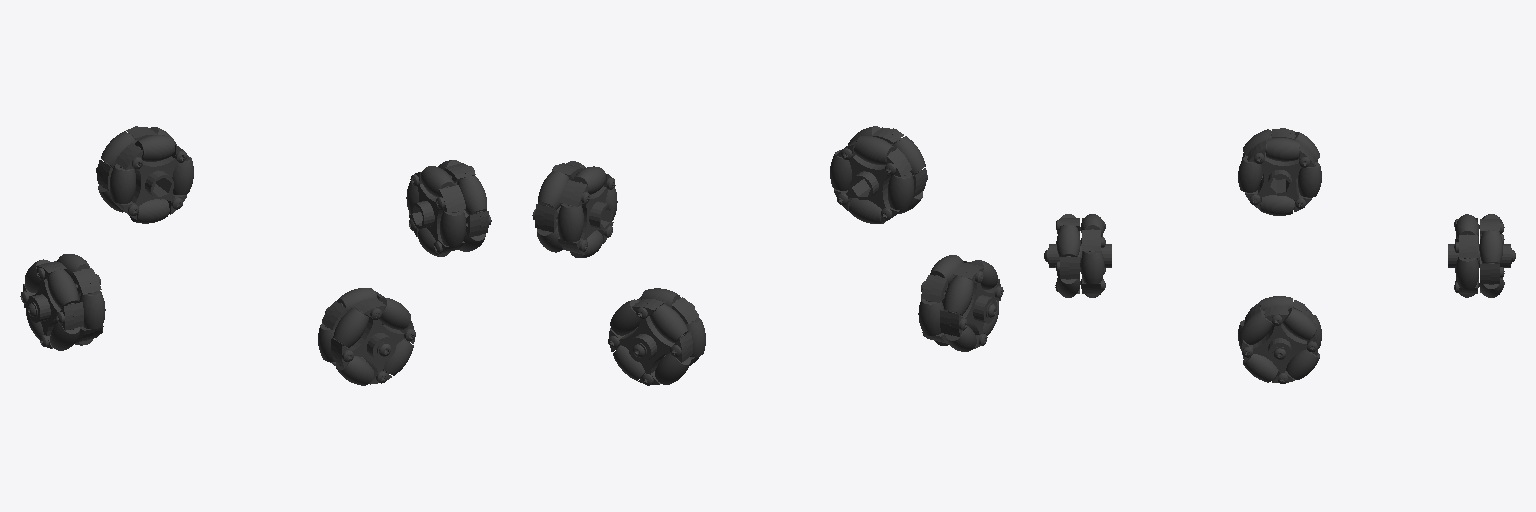
robot.urdf — omwr:
<?xml version="1.0" encoding="utf-8"?>
<!-- This URDF was automatically created by SolidWorks to URDF Exporter! Originally created by Stephen Brawner (brawner@gmail.com) 
     Commit Version: 1.6.0-1-g15f4949  Build Version: 1.6.7594.29634
     For more information, please see http://wiki.ros.org/sw_urdf_exporter -->
<robot
  name="omwr">
  <link
    name="base_link">
    <inertial>
      <origin
        xyz="-0.000455646246067566 0.000811694117781514 0.020119977038071"
        rpy="0 0 0" />
      <mass
        value="1.89769515400292" />
      <inertia
        ixx="0.00203870421675236"
        ixy="-3.27327410701632E-06"
        ixz="5.39454756330921E-08"
        iyy="0.00192797712175279"
        iyz="-9.91897216552498E-08"
        izz="0.00385166203404091" />
    </inertial>
    <visual>
      <origin
        xyz="0 0 0"
        rpy="0 0 0" />
      <geometry>
        <mesh
          filename="package://omwr/meshes/base_link.STL" />
      </geometry>
      <material
        name="">
        <color
          rgba="1 0 0 1" />
      </material>
    </visual>
    <collision>
      <origin
        xyz="0 0 0"
        rpy="0 0 0" />
      <geometry>
        <mesh
          filename="package://omwr/meshes/base_link.STL" />
      </geometry>
    </collision>
  </link>
  <link
    name="wheel_link_1">
    <inertial>
      <origin
        xyz="-3.86434327037666E-08 -6.47441782009733E-08 0.000278578805558621"
        rpy="0 0 0" />
      <mass
        value="0.0219332134678674" />
      <inertia
        ixx="7.81868143177715E-07"
        ixy="4.37364991111912E-13"
        ixz="1.09395269168608E-11"
        iyy="7.81863503239375E-07"
        iyz="9.76071457932988E-12"
        izz="1.25414249321258E-06" />
    </inertial>
    <visual>
      <origin
        xyz="0 0 0"
        rpy="0 0 0" />
      <geometry>
        <mesh
          filename="package://omwr/meshes/wheel_link_1.STL" />
      </geometry>
      <material
        name="">
        <color
          rgba="0.298039215686275 0.298039215686275 0.298039215686275 1" />
      </material>
    </visual>
    <collision>
      <origin
        xyz="0 0 0"
        rpy="0 0 0" />
      <geometry>
        <mesh
          filename="package://omwr/meshes/wheel_link_1.STL" />
      </geometry>
    </collision>
  </link>
  <joint
    name="wheel_joint_1"
    type="continuous">
    <origin
      xyz="0.0915670497449635 0 -0.0166999999999997"
      rpy="0 1.5707963267949 0" />
    <parent
      link="base_link" />
    <child
      link="wheel_link_1" />
    <axis
      xyz="0 0 1" />
  </joint>
  <link
    name="wheel_link_2">
    <inertial>
      <origin
        xyz="6.47438472764494E-08 -3.86432083832045E-08 0.000278578805204113"
        rpy="0 0 0" />
      <mass
        value="0.0219332134667945" />
      <inertia
        ixx="7.81863503201909E-07"
        ixy="-4.37399074667269E-13"
        ixz="-9.76073274427034E-12"
        iyy="7.81868143163356E-07"
        iyz="1.09395132123487E-11"
        izz="1.254142493171E-06" />
    </inertial>
    <visual>
      <origin
        xyz="0 0 0"
        rpy="0 0 0" />
      <geometry>
        <mesh
          filename="package://omwr/meshes/wheel_link_2.STL" />
      </geometry>
      <material
        name="">
        <color
          rgba="0.298039215686275 0.298039215686275 0.298039215686275 1" />
      </material>
    </visual>
    <collision>
      <origin
        xyz="0 0 0"
        rpy="0 0 0" />
      <geometry>
        <mesh
          filename="package://omwr/meshes/wheel_link_2.STL" />
      </geometry>
    </collision>
  </link>
  <joint
    name="wheel_joint_2"
    type="continuous">
    <origin
      xyz="0 0.0915670497449634 -0.0166999999999998"
      rpy="-1.57079632679489 0 0" />
    <parent
      link="base_link" />
    <child
      link="wheel_link_2" />
    <axis
      xyz="0 0 1" />
  </joint>
  <link
    name="wheel_link_3">
    <inertial>
      <origin
        xyz="-3.86433878507564E-08 -6.47442539511434E-08 0.000278578805495755"
        rpy="0 0 0" />
      <mass
        value="0.0219332134667944" />
      <inertia
        ixx="7.8186814315554E-07"
        ixy="4.37380720581609E-13"
        ixz="1.09395370824763E-11"
        iyy="7.81863503212026E-07"
        iyz="9.7607265595441E-12"
        izz="1.2541424931687E-06" />
    </inertial>
    <visual>
      <origin
        xyz="0 0 0"
        rpy="0 0 0" />
      <geometry>
        <mesh
          filename="package://omwr/meshes/wheel_link_3.STL" />
      </geometry>
      <material
        name="">
        <color
          rgba="0.298039215686275 0.298039215686275 0.298039215686275 1" />
      </material>
    </visual>
    <collision>
      <origin
        xyz="0 0 0"
        rpy="0 0 0" />
      <geometry>
        <mesh
          filename="package://omwr/meshes/wheel_link_3.STL" />
      </geometry>
    </collision>
  </link>
  <joint
    name="wheel_joint_3"
    type="continuous">
    <origin
      xyz="-0.0915670497449634 0 -0.0166999999999998"
      rpy="3.14159265358979 1.5707963267949 0" />
    <parent
      link="base_link" />
    <child
      link="wheel_link_3" />
    <axis
      xyz="0 0 1" />
  </joint>
  <link
    name="wheel_link_4">
    <inertial>
      <origin
        xyz="-6.47439583646714E-08 3.86435293209253E-08 0.000278578805303381"
        rpy="0 0 0" />
      <mass
        value="0.0219332134662579" />
      <inertia
        ixx="7.81863503194693E-07"
        ixy="-4.37389687260924E-13"
        ixz="9.7607216505699E-12"
        iyy="7.81868143145534E-07"
        iyz="-1.09395297860106E-11"
        izz="1.25414249314933E-06" />
    </inertial>
    <visual>
      <origin
        xyz="0 0 0"
        rpy="0 0 0" />
      <geometry>
        <mesh
          filename="package://omwr/meshes/wheel_link_4.STL" />
      </geometry>
      <material
        name="">
        <color
          rgba="0.298039215686275 0.298039215686275 0.298039215686275 1" />
      </material>
    </visual>
    <collision>
      <origin
        xyz="0 0 0"
        rpy="0 0 0" />
      <geometry>
        <mesh
          filename="package://omwr/meshes/wheel_link_4.STL" />
      </geometry>
    </collision>
  </link>
  <joint
    name="wheel_joint_4"
    type="continuous">
    <origin
      xyz="0 -0.0915670497449635 -0.0166999999999998"
      rpy="1.57079632679489 0 0" />
    <parent
      link="base_link" />
    <child
      link="wheel_link_4" />
    <axis
      xyz="0 0 1" />
  </joint>
</robot>

--- What the picture shows (computed from the rendered views, not written in the file) ---
The picture shows the robot from 3 angles, left to right: view 1: azimuth 30°, elevation 25°; view 2: azimuth 150°, elevation 25°; view 3: azimuth 270°, elevation 25°; orthographic projection.
Model omwr with 5 links and 4 joints (4 continuous), rooted at base_link, posed all joints at 0.
Links seen in each view (by area): view 1: wheel_link_2, wheel_link_4, wheel_link_3, wheel_link_1; view 2: wheel_link_2, wheel_link_4, wheel_link_1, wheel_link_3; view 3: wheel_link_1, wheel_link_3, wheel_link_2, wheel_link_4.
Link boxes in pixels (bbox=[...]): wheel_link_2: bbox=[96, 126, 193, 223]; wheel_link_4: bbox=[318, 288, 415, 385]; wheel_link_3: bbox=[20, 254, 105, 350]; wheel_link_1: bbox=[406, 160, 491, 256]; wheel_link_2: bbox=[608, 288, 705, 385]; wheel_link_4: bbox=[830, 126, 927, 223]; wheel_link_1: bbox=[532, 161, 617, 257]; wheel_link_3: bbox=[918, 255, 1003, 351]; wheel_link_1: bbox=[1238, 296, 1321, 383]; wheel_link_3: bbox=[1238, 128, 1321, 215]; wheel_link_2: bbox=[1448, 214, 1515, 297]; wheel_link_4: bbox=[1044, 214, 1111, 297].
Size in the robot's own frame: 0.2163 by 0.2163 by 0.0386 metres.
Meshes: 5 distinct files referenced, 4 mesh visuals loaded (4 binary STL); not drawn: 1 (reference not matched to a file when rendering).
